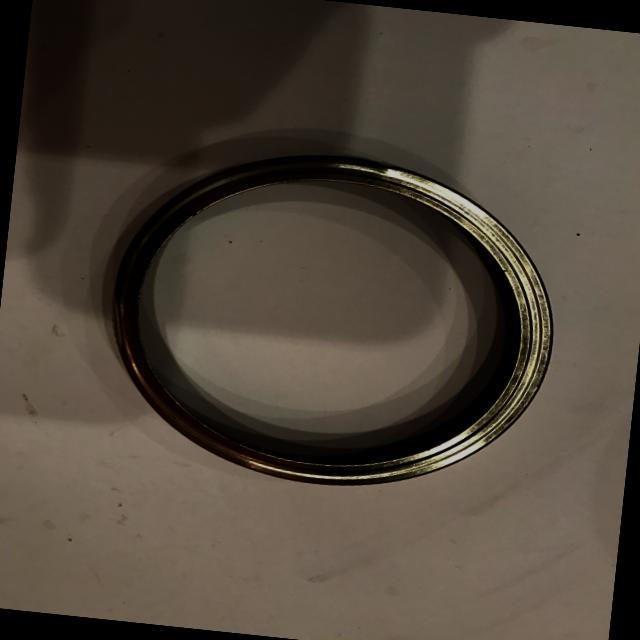Metal: (67, 116, 587, 537)
